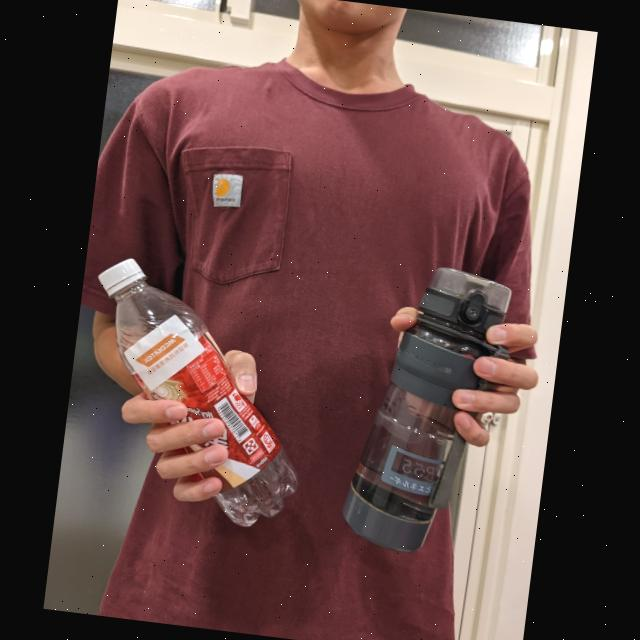trash: (68, 251, 324, 534)
